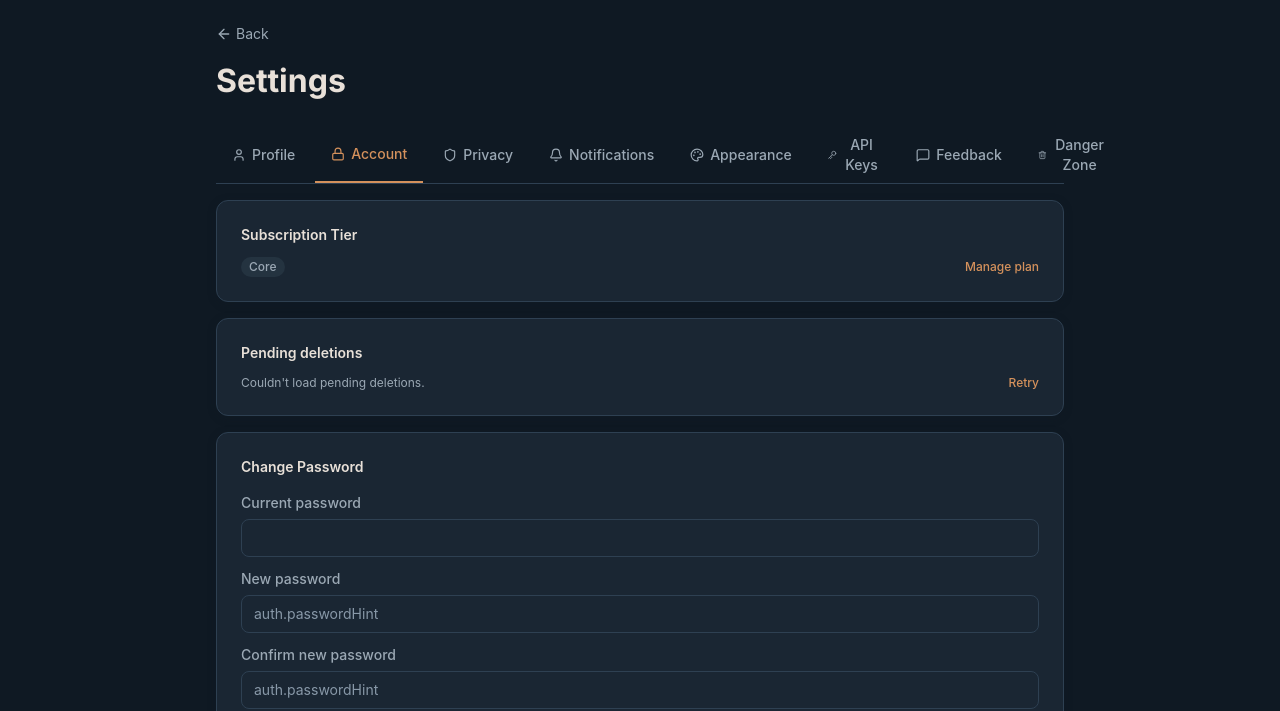
Test: PendingDeletionsCard — ME-MIS-001 §5.2 Surface D › recovers via Retry when the second fetch succeeds
The image size is (1280, 711).
Check: the message "Couldn't load pending deletions. Retry" is shown, box [241,375,1039,391]
Click the button "Retry": {"x": 1024, "y": 383} [1008,375,1039,391]
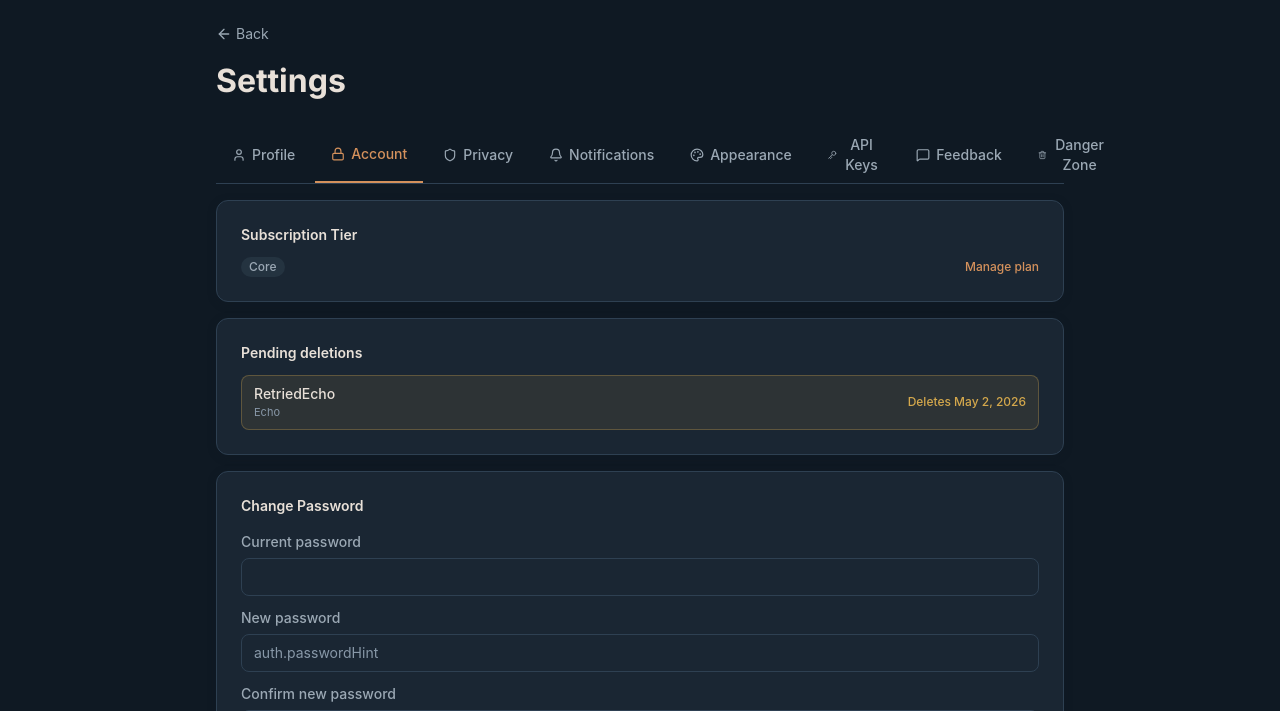
Check: the message "Couldn't load pending deletions. Retry" is gone
Check: the text "RetriedEcho" is shown, box [254,385,335,402]
